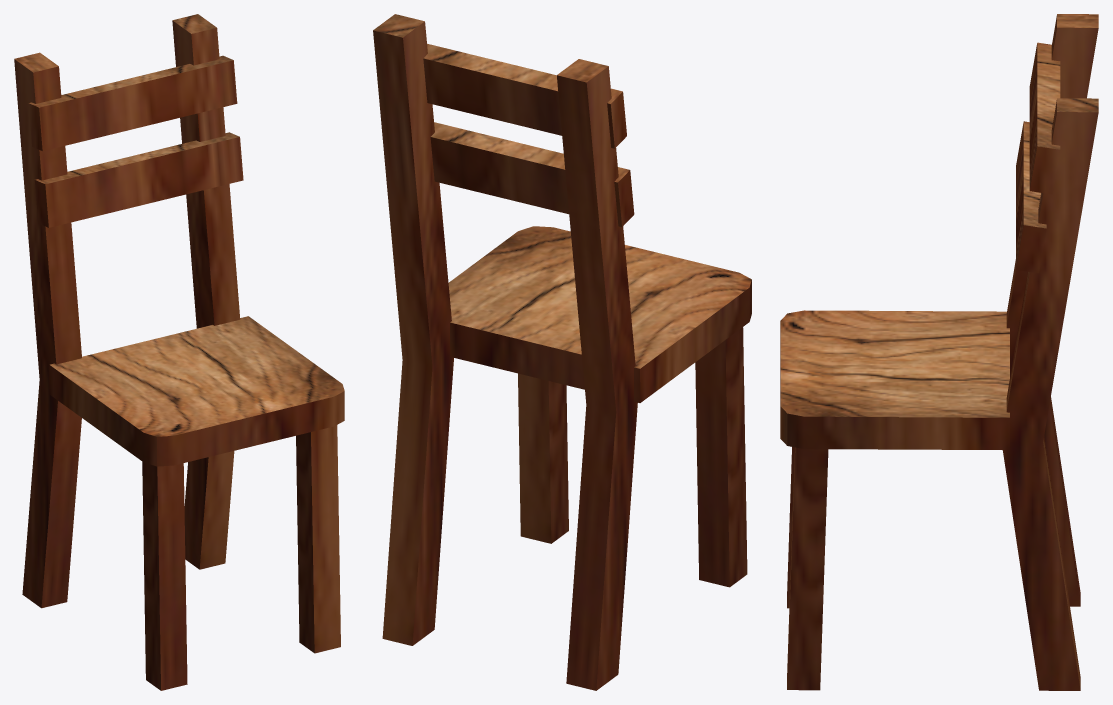
Rendered from chair.fbx.
The picture shows the model from 3 angles, left to right: view 1: azimuth 30°, elevation 25°; view 2: azimuth 150°, elevation 25°; view 3: azimuth 270°, elevation 25°; orthographic projection. The views are drawn at different scales.
Visible parts, largest first — view 1: chair; view 2: chair; view 3: chair.
Boxes of the visible parts, <box> form: chair: <box>14,14,344,690</box>; chair: <box>373,14,751,690</box>; chair: <box>780,14,1098,690</box>.
Size of the model in its own units: 45.59 by 116 by 57.78.
